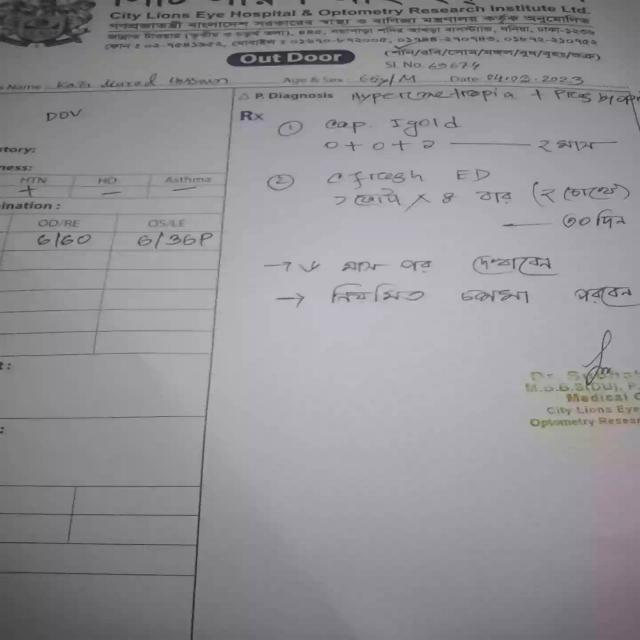Cfresh: (320, 167, 430, 189)
Gold: (384, 114, 464, 136)
